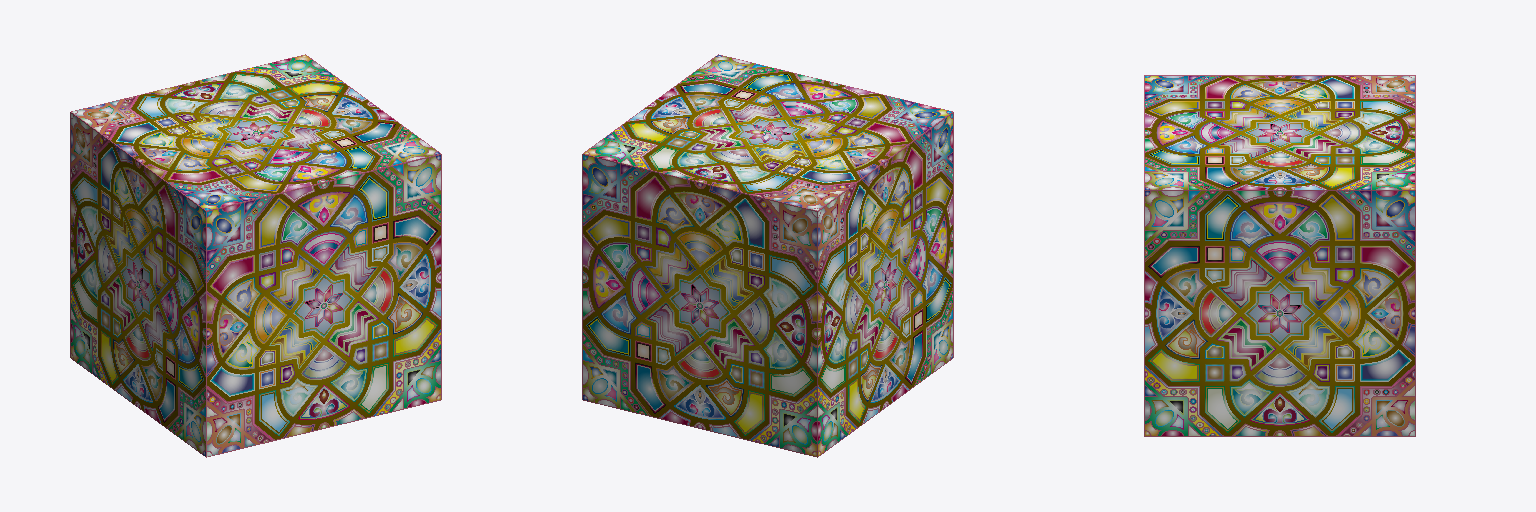
The picture shows the model from 3 angles: view 1: azimuth 30°, elevation 25°; view 2: azimuth 150°, elevation 25°; view 3: azimuth 270°, elevation 25°; orthographic projection.
Bounding box in the file's own units: 1 × 1 × 1.
Materials: 1 (1 with a texture image).